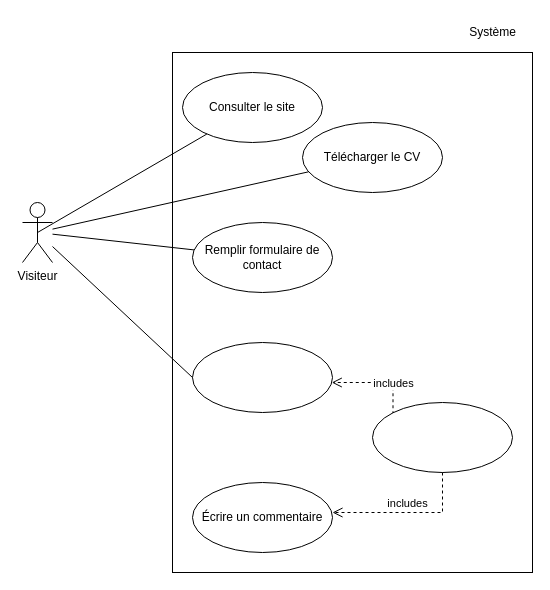
Some shapes in this 550 by 590 pixel diagram are drawn without their labels. Each missing label, with the centre of its shape:
Créer un compte: the point at 262,377
Se connecter: the point at 442,437
